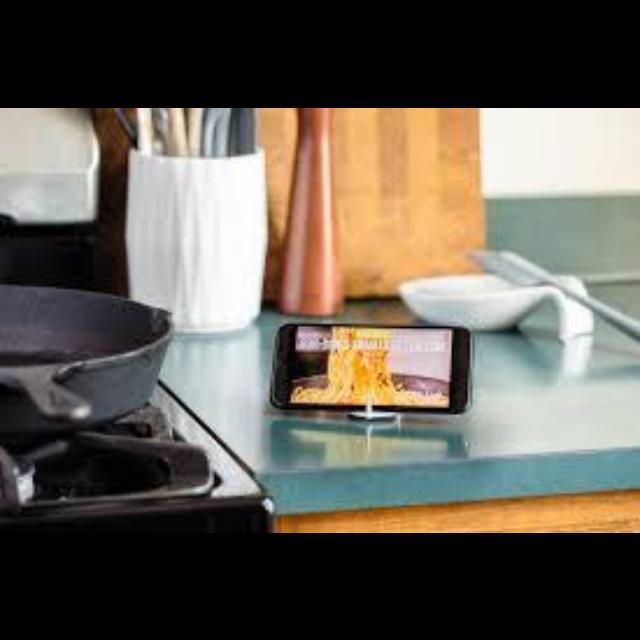Phone: (271, 322, 473, 414)
